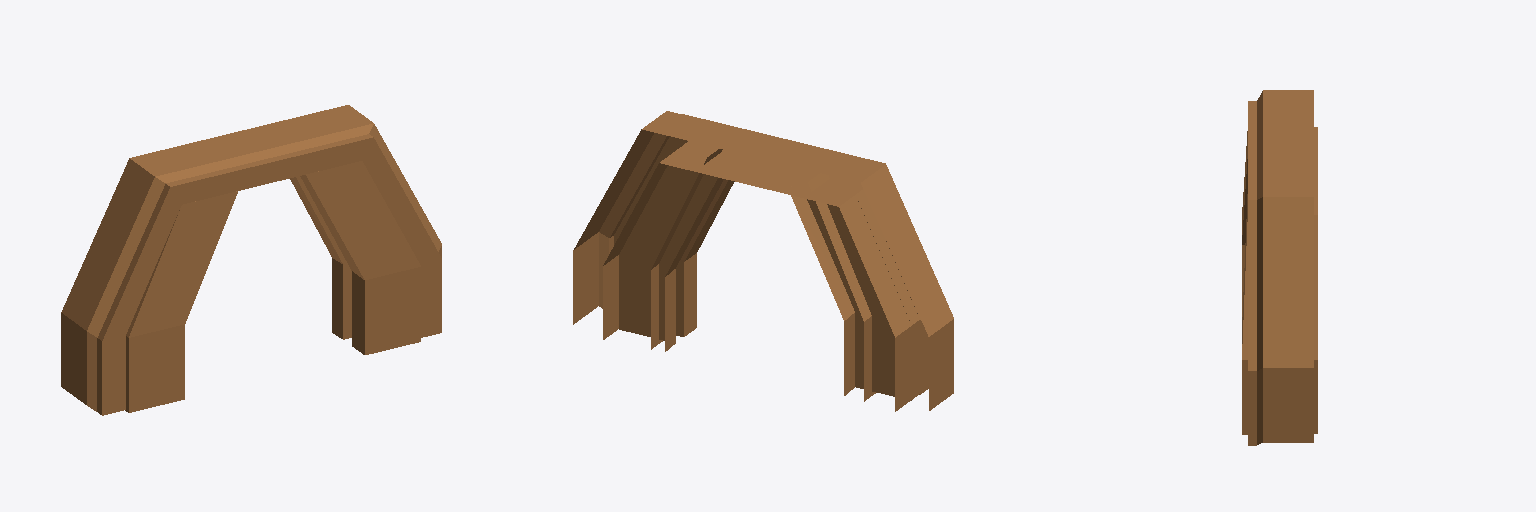
Rendered from cave_entrance.obj.
The picture shows the model from 3 angles: view 1: azimuth 30°, elevation 25°; view 2: azimuth 150°, elevation 25°; view 3: azimuth 270°, elevation 25°; orthographic projection.
Visible parts, largest first — view 1: cave_entrance_Cube.040; view 2: cave_entrance_Cube.040; view 3: cave_entrance_Cube.040.
Part boxes in pixels (x1,y1,x2,y2): cave_entrance_Cube.040: (61,105,441,415); cave_entrance_Cube.040: (573,111,953,411); cave_entrance_Cube.040: (1242,90,1317,445).
Bounding box in the file's own units: 32.63 × 19.68 × 6.06.